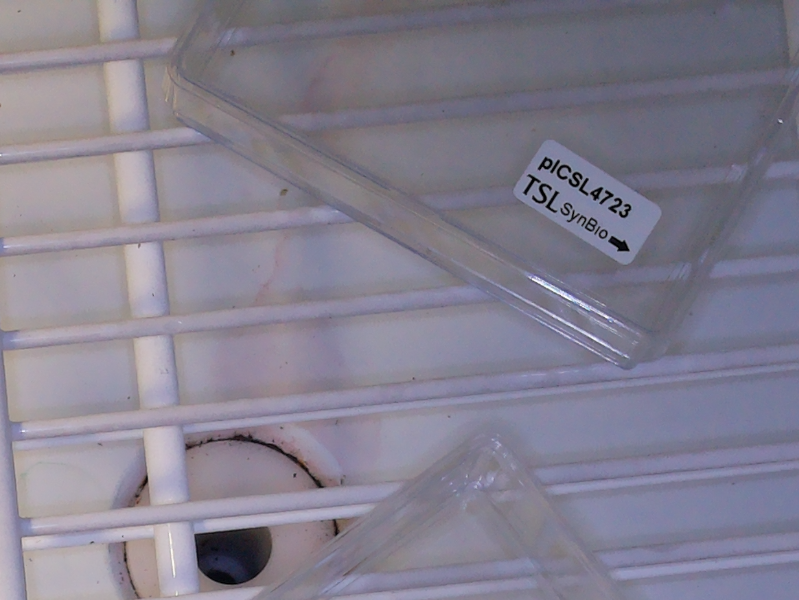plate: (161, 1, 796, 379), (272, 432, 620, 600)
